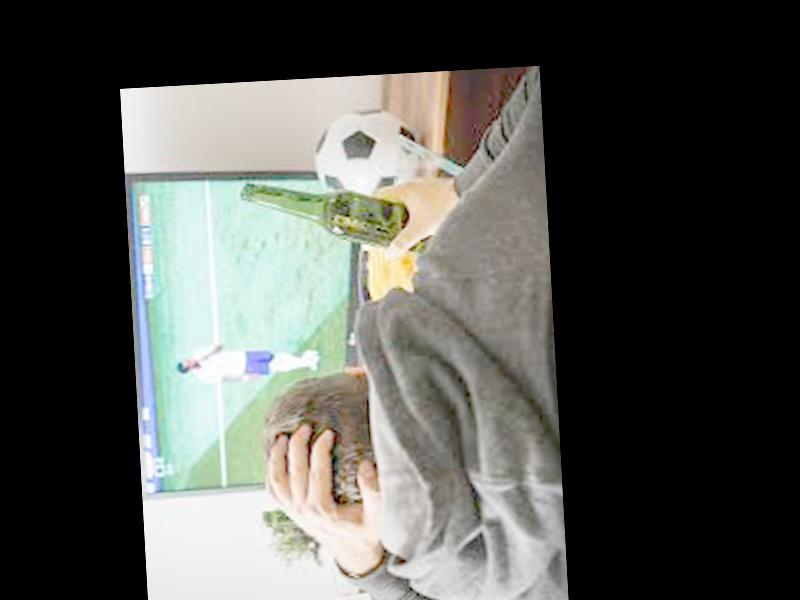Beer: (240, 173, 437, 257)
